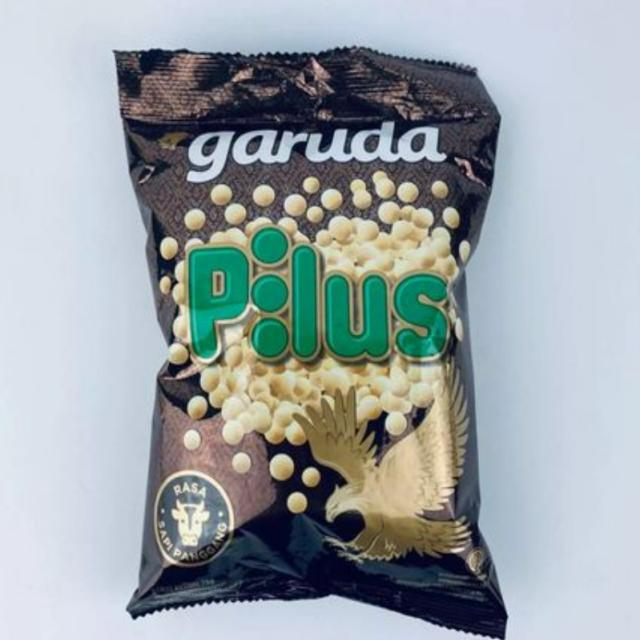KemasanPlastik: (112, 44, 510, 639)
